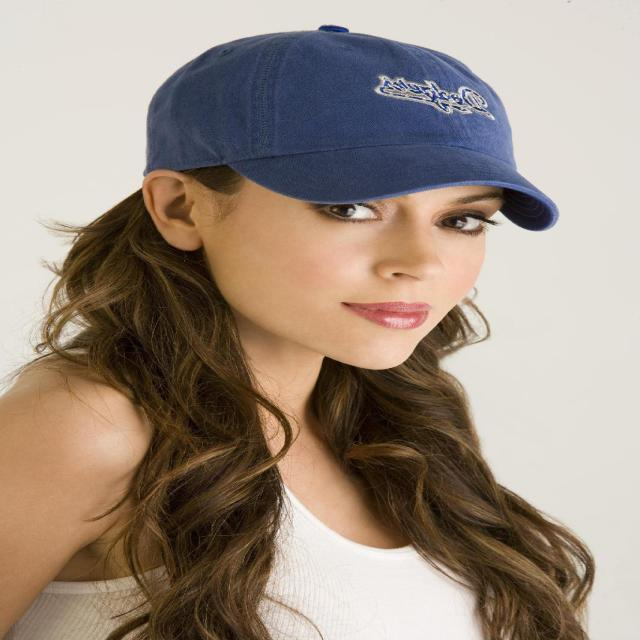no-earmuff: (123, 152, 234, 258)
